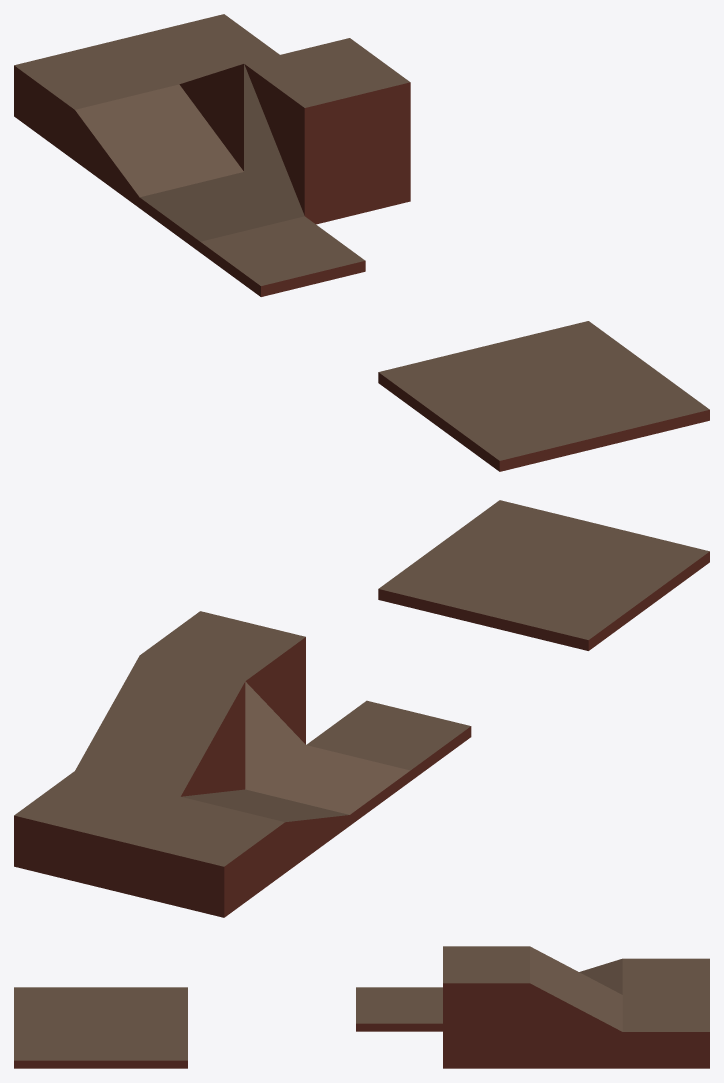
The model's file is test_map.glb.
3 renders of one model, top to bottom at view 1: azimuth 30°, elevation 25°; view 2: azimuth 150°, elevation 25°; view 3: azimuth 270°, elevation 25°, orthographic. The views are drawn at different scales.
Visible parts, largest first — view 1: test_map; view 2: test_map; view 3: test_map.
Boxes of the visible parts, left/top/right/bottom form: test_map: left=14, top=14, right=709, bottom=471; test_map: left=14, top=500, right=709, bottom=917; test_map: left=14, top=946, right=709, bottom=1068.
Bounding box in the file's own units: 2 × 1.08 × 8.
